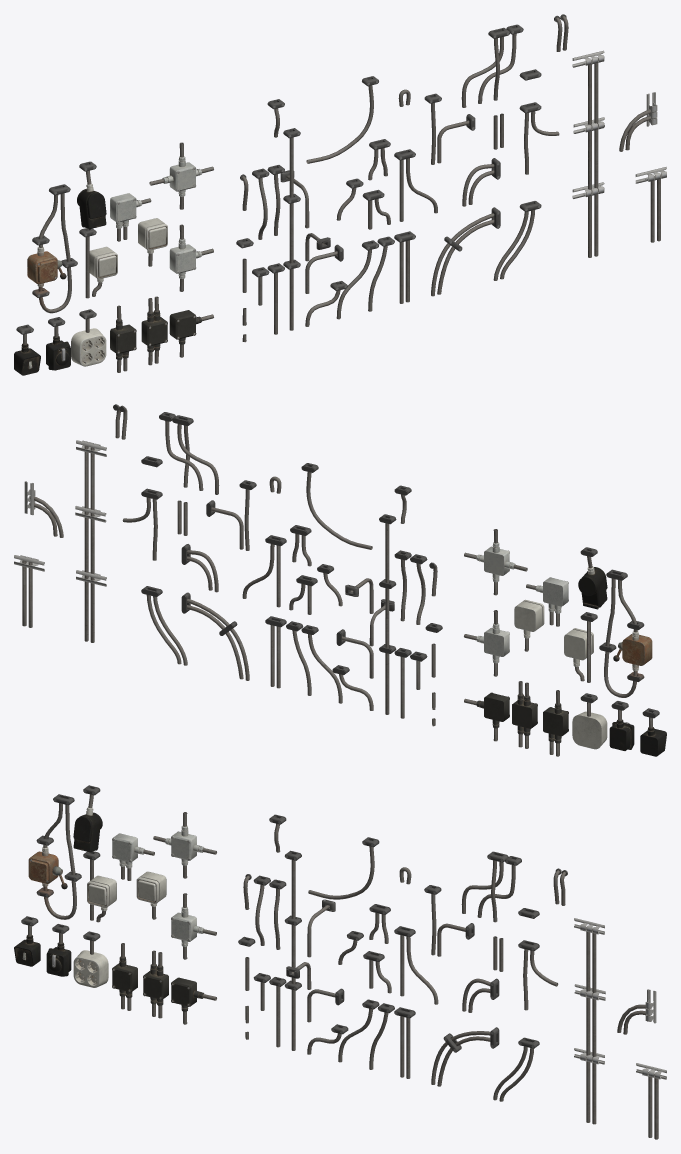
Rendered from modular_electric_cables.glb.
3 views of the same model, one above another, from view 1: azimuth 30°, elevation 25°; view 2: azimuth 150°, elevation 25°; view 3: azimuth 330°, elevation 25° (orthographic).
Visible parts, largest first — view 1: cable_double_alt_long, cable_switch, cable_plug_4x, cable_3way_junction, cable_lightswitch_double, cable_straight_long, cable_plug_covered_2, cable_double_turn_long, cable_box_double, cable_box_4way, cable_box_3way, cable_box_double_to_single (+14 smaller); view 2: cable_double_alt_long, cable_switch, cable_3way_junction, cable_plug_4x, cable_straight_long, cable_lightswitch_double, cable_double_turn_long, cable_plug_covered_2, cable_box_double, cable_box_4way, cable_box_double_to_single_2, cable_box_3way (+14 smaller); view 3: cable_double_alt_long, cable_switch, cable_plug_4x, cable_3way_junction, cable_straight_long, cable_plug_covered_2, cable_lightswitch_double, cable_box_4way, cable_double_turn_long, cable_box_double, cable_box_3way, cable_box_double_to_single (+14 smaller).
Part boxes in pixels (<box>): cable_double_alt_long: <box>572,50,604,257</box>; cable_switch: <box>27,184,77,313</box>; cable_plug_4x: <box>71,309,106,366</box>; cable_3way_junction: <box>461,24,523,107</box>; cable_lightswitch_double: <box>79,228,117,298</box>; cable_straight_long: <box>283,128,300,330</box>; cable_plug_covered_2: <box>77,161,106,228</box>; cable_double_turn_long: <box>431,207,500,296</box>; cable_box_double: <box>141,296,167,365</box>; cable_box_4way: <box>149,142,213,209</box>; cable_box_3way: <box>169,224,213,291</box>; cable_box_double_to_single: <box>110,305,136,372</box>; cable_double_alt_long: <box>75,440,106,642</box>; cable_switch: <box>599,569,652,697</box>; cable_3way_junction: <box>159,412,219,494</box>; cable_plug_4x: <box>572,693,607,749</box>; cable_straight_long: <box>379,514,396,714</box>; cable_lightswitch_double: <box>564,612,597,682</box>; cable_double_turn_long: <box>181,592,249,680</box>; cable_plug_covered_2: <box>578,547,607,609</box>; cable_box_double: <box>512,681,537,748</box>; cable_box_4way: <box>464,529,527,595</box>; cable_box_double_to_single_2: <box>526,577,568,626</box>; cable_box_3way: <box>464,610,509,676</box>; cable_double_alt_long: <box>574,918,605,1124</box>; cable_switch: <box>28,794,81,919</box>; cable_plug_4x: <box>73,931,108,987</box>; cable_3way_junction: <box>461,851,521,922</box>; cable_straight_long: <box>284,850,301,1050</box>; cable_plug_covered_2: <box>73,785,102,852</box>; cable_lightswitch_double: <box>83,851,116,922</box>; cable_box_4way: <box>153,812,216,878</box>; cable_double_turn_long: <box>431,1027,499,1086</box>; cable_box_double: <box>143,950,168,1018</box>; cable_box_3way: <box>171,893,216,959</box>; cable_box_double_to_single: <box>112,943,137,1010</box>.
Size of the model in its own units: 2.08 by 0.7573 by 0.2145.
Materials: 2 (2 with a texture image).
